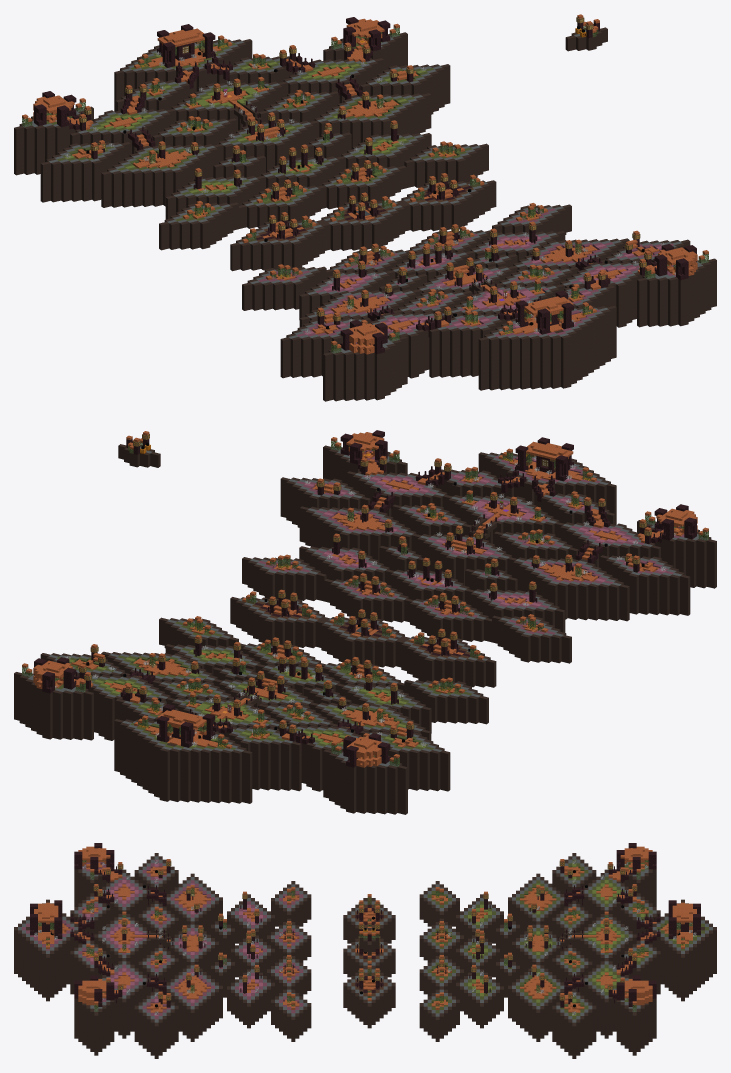
Rendered from minecraft.obj.
3 views of the same model, one above another, from view 1: azimuth 30°, elevation 25°; view 2: azimuth 150°, elevation 25°; view 3: azimuth 270°, elevation 25° (orthographic). The views are drawn at different scales.
Size of the model in its own units: 112 by 39.5 by 175.
